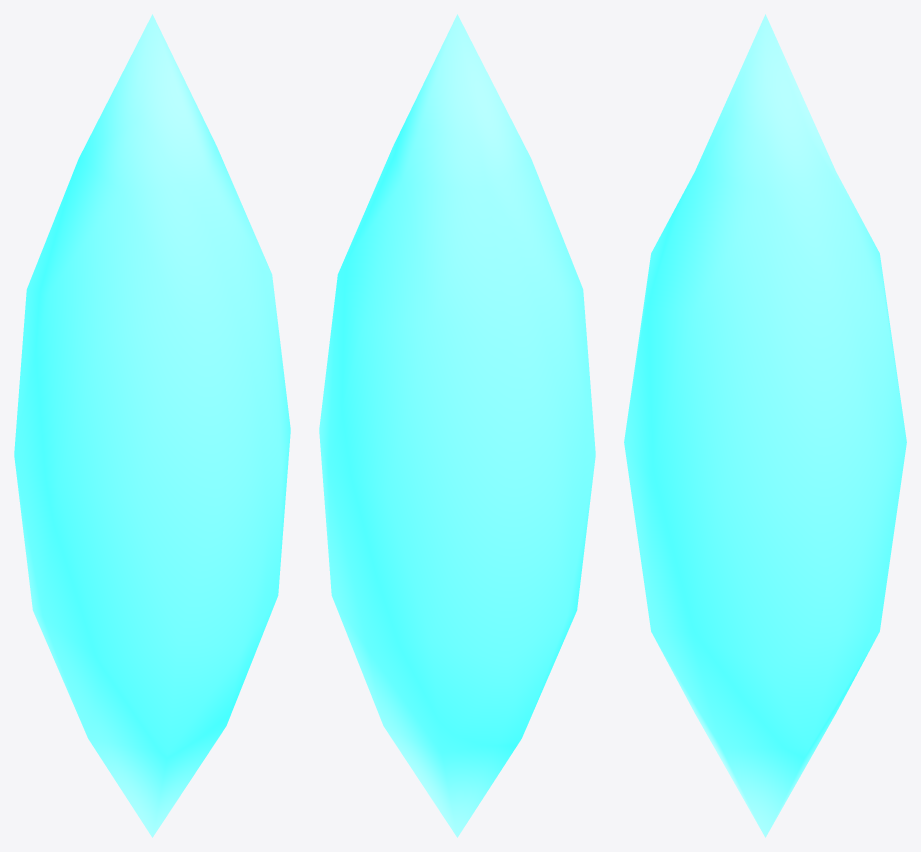
File: castle-crystal.glb
3 renders of one model, left to right at view 1: azimuth 30°, elevation 25°; view 2: azimuth 150°, elevation 25°; view 3: azimuth 270°, elevation 25°, orthographic.
Parts seen in each view (by area): view 1: Crystal; view 2: Crystal; view 3: Crystal.
Part boxes in pixels (box(x1,y1,x2,y2)): Crystal: box(14, 14, 290, 837); Crystal: box(319, 14, 595, 837); Crystal: box(624, 14, 906, 837).
Size of the model in its own units: 0.0325 by 0.11 by 0.0342.
